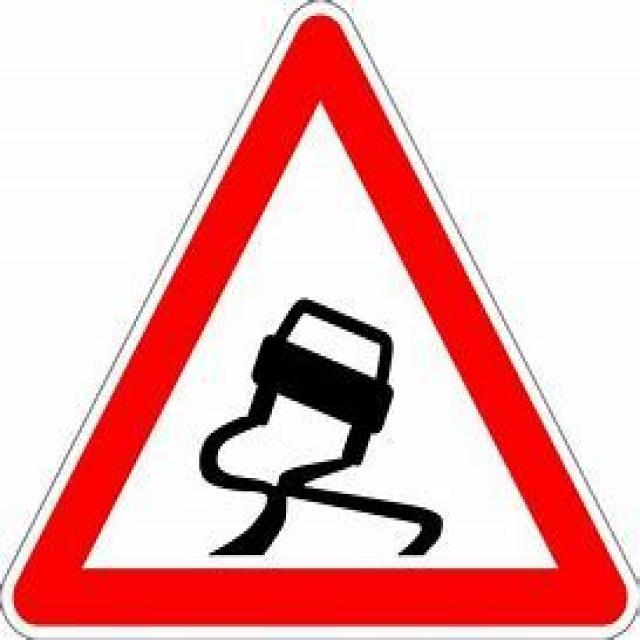slippery road: (16, 19, 624, 624)
